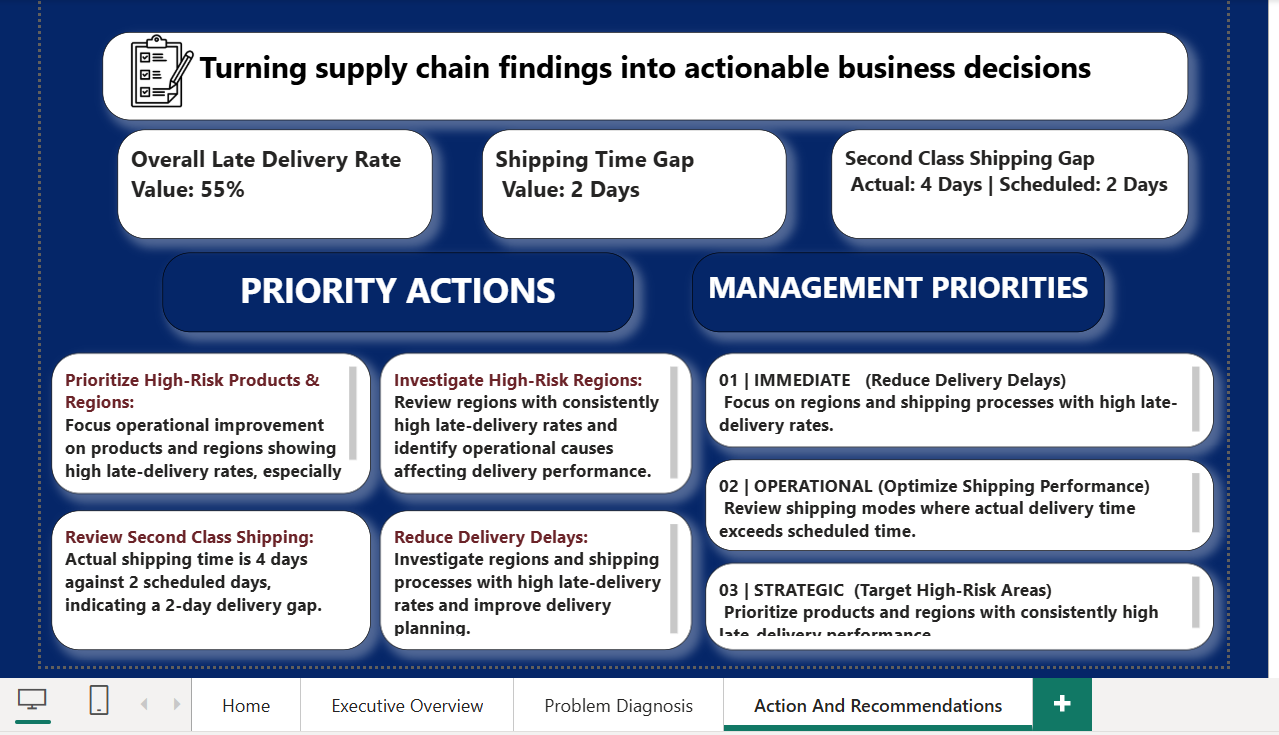

This screenshot's page, from the dashboard's own definition file:
{"tool":"powerbi","page":{"name":"Action And Recommendations","canvas":[1280,720],"ordinal":3},"visuals":[{"type":"textbox","box":[66.4,35.6,1172.3,95.5],"z":0},{"type":"textbox","box":[82.6,140.9,340,118.2],"z":1000},{"type":"textbox","box":[476.1,140.9,328.7,118.2],"z":2000},{"type":"textbox","box":[853.3,140.9,385.4,118.2],"z":3000},{"type":"textbox","box":[11.3,382.1,344.9,152.2],"z":6000},{"type":"textbox","box":[365.9,382.1,336.8,152.2],"z":7000},{"type":"textbox","box":[11.3,552.2,344.9,150.6],"z":8000},{"type":"textbox","box":[365.9,552.2,336.8,150.6],"z":9000},{"type":"textbox","box":[189.5,273.7,926.3,86],"z":10000},{"type":"textbox","box":[717.3,382.1,548.9,102],"z":11000},{"type":"textbox","box":[717.3,497.1,548.9,98.8],"z":12000},{"type":"textbox","box":[717.3,608.8,548.9,93.9],"z":13000},{"type":"image","box":[42.1,35.6,178.1,84.2],"z":14000}]}

Visuals, with their boxes on the page's 1280x720 design canvas (x1, y1, x2, y2). These are canvas units, not pixel positions in the 1279x735 screenshot, which may show the page scaled, cropped or inside an application window:
textbox: locate(66, 36, 1239, 131)
textbox: locate(83, 141, 423, 259)
textbox: locate(476, 141, 805, 259)
textbox: locate(853, 141, 1239, 259)
textbox: locate(11, 382, 356, 534)
textbox: locate(366, 382, 703, 534)
textbox: locate(11, 552, 356, 703)
textbox: locate(366, 552, 703, 703)
textbox: locate(190, 274, 1116, 360)
textbox: locate(717, 382, 1266, 484)
textbox: locate(717, 497, 1266, 596)
textbox: locate(717, 609, 1266, 703)
image: locate(42, 36, 220, 120)
